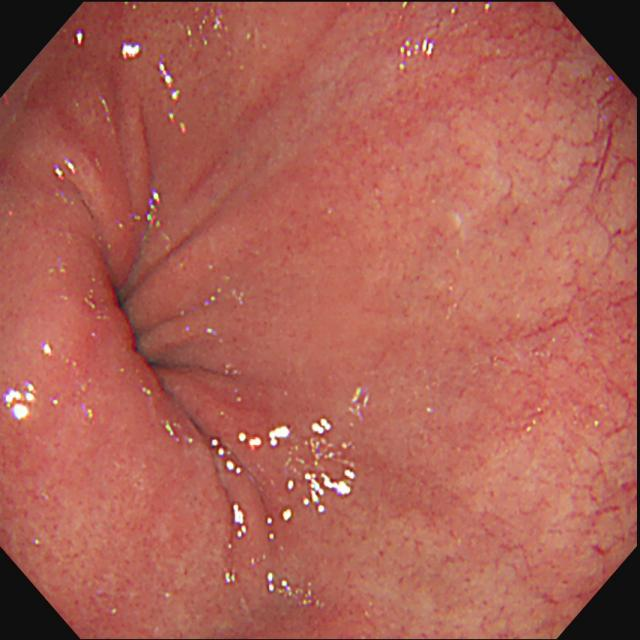I: (74, 221, 227, 439)
U: (208, 412, 361, 610), (157, 60, 189, 135), (5, 380, 41, 424), (398, 35, 437, 72), (135, 188, 166, 228), (54, 157, 84, 184), (117, 39, 144, 63), (70, 27, 90, 49), (41, 338, 58, 362)
